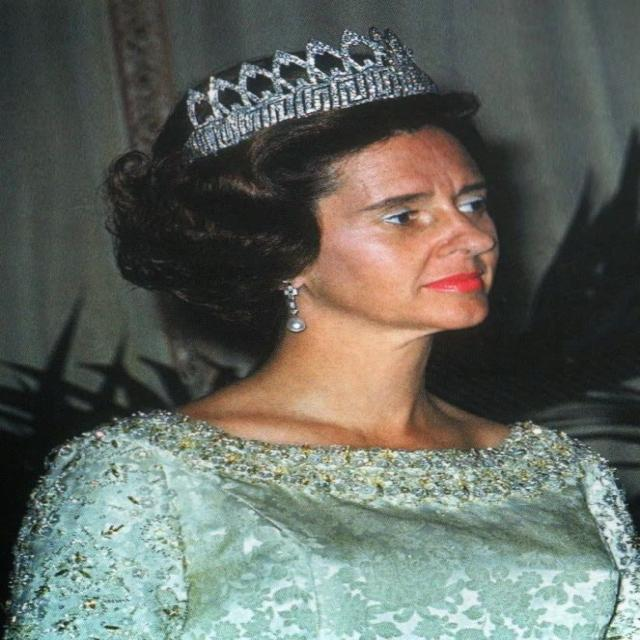Earring: (261, 272, 315, 349)
